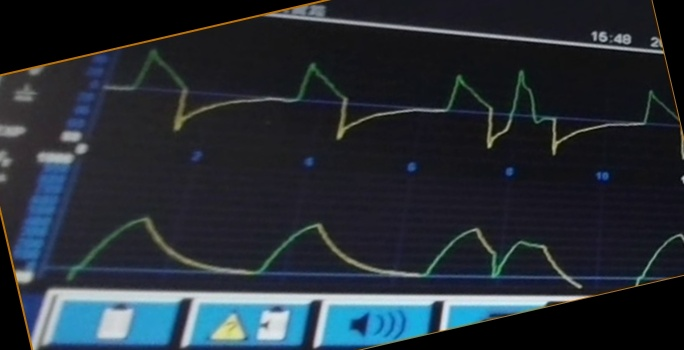Double_Triggering Flow: (131, 50, 611, 155)
Double_Triggering Volume: (75, 199, 611, 287)
